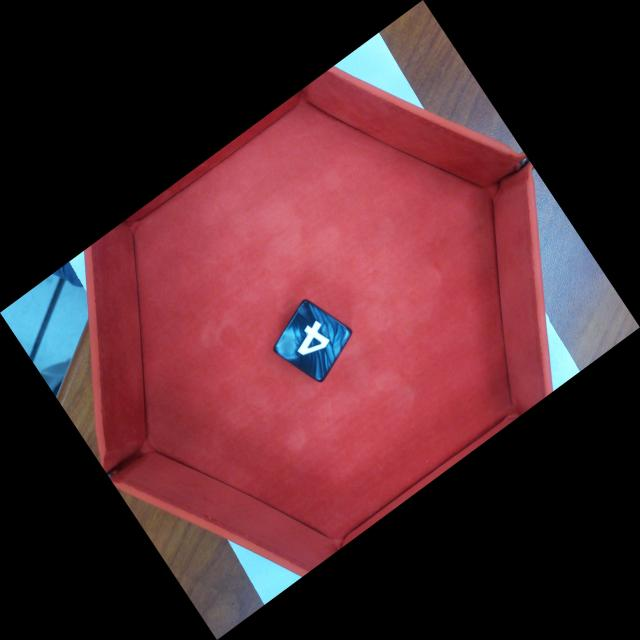dice: (273, 300, 353, 383)
